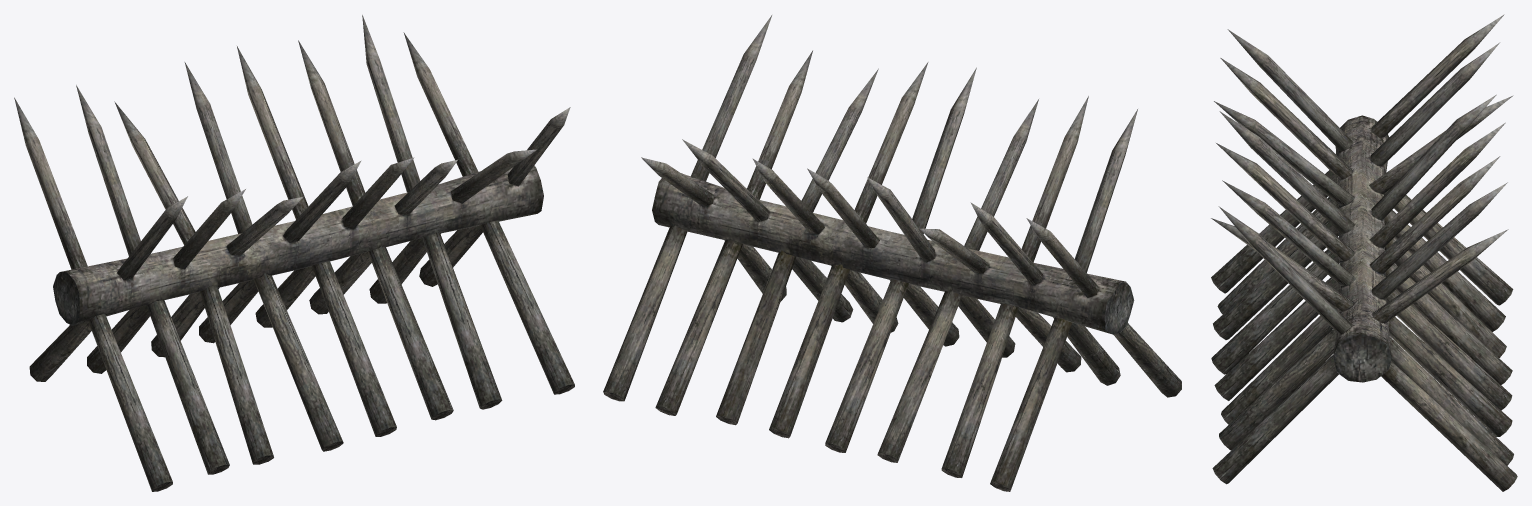
The model's file is pinchos.glb.
3 views of the same model, side by side, from view 1: azimuth 30°, elevation 25°; view 2: azimuth 150°, elevation 25°; view 3: azimuth 270°, elevation 25° (orthographic). The views are drawn at different scales.
Parts seen in each view (by area): view 1: Object_2; view 2: Object_2; view 3: Object_2.
Boxes of the visible parts, x1=… form: Object_2: x1=14, y1=15, x2=574, y2=491; Object_2: x1=603, y1=15, x2=1181, y2=491; Object_2: x1=1211, y1=14, x2=1517, y2=491.
Size of the model in its own units: 256 by 155 by 153.
Materials: 1 (1 with a texture image).
